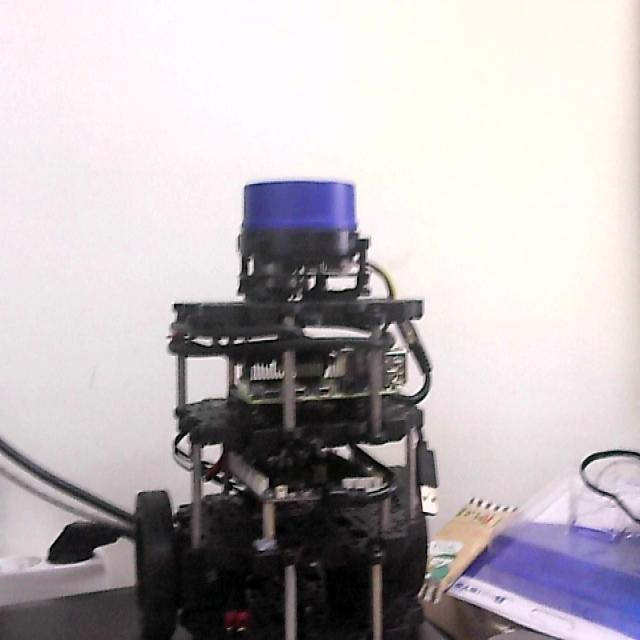turtle: (134, 178, 440, 640)
